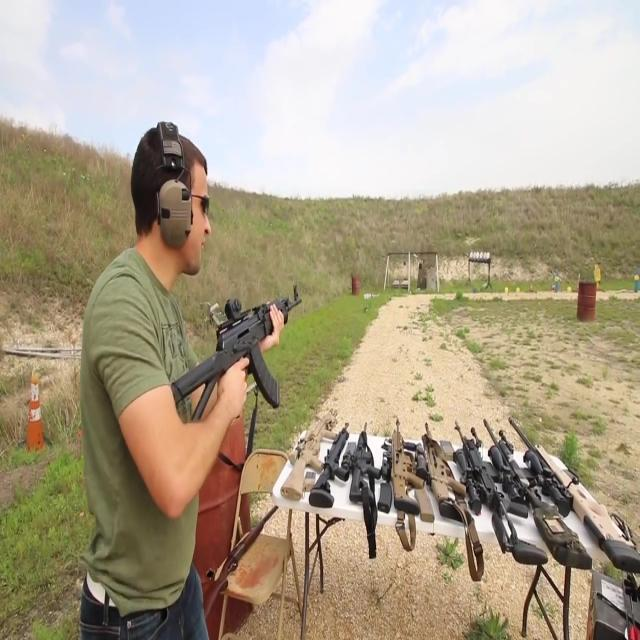Weapon: (279, 329, 640, 621), (144, 267, 313, 425), (184, 474, 308, 603)
